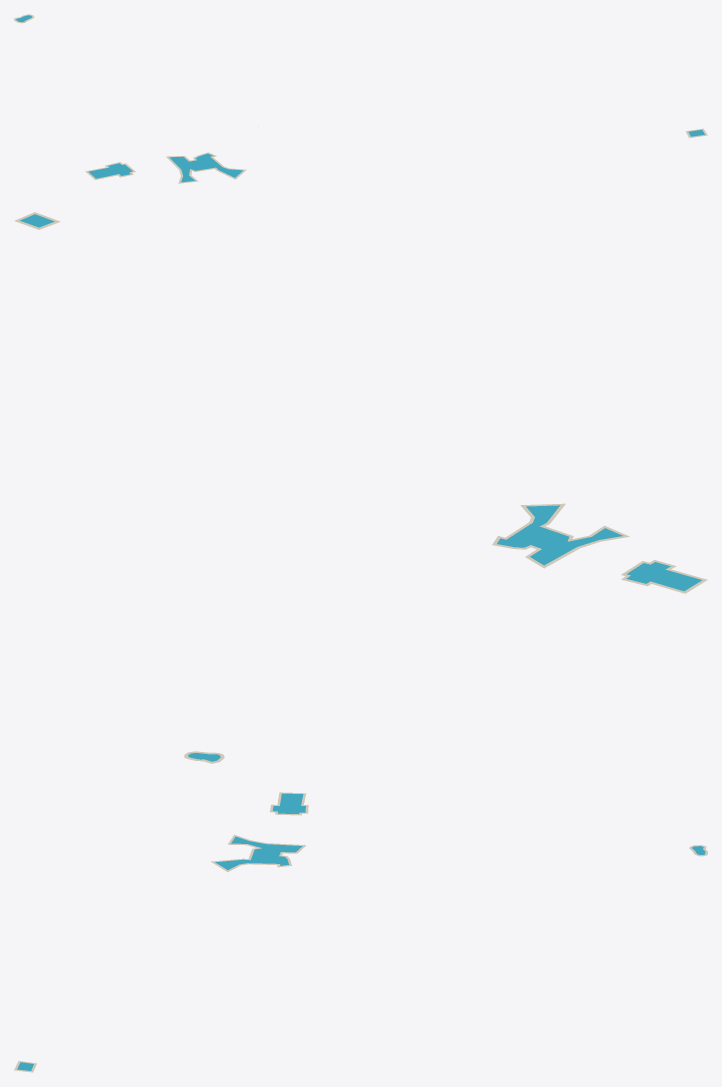
File: pbpool_m20_m16.glb
The picture shows the model from 3 angles, top to bottom: view 1: azimuth 30°, elevation 25°; view 2: azimuth 150°, elevation 25°; view 3: azimuth 270°, elevation 25°; orthographic projection. The views are drawn at different scales.
Parts seen in each view (by area): view 1: pbpool_m20_m16_lod0; view 2: pbpool_m20_m16_lod0; view 3: pbpool_m20_m16_lod0.
Boxes of the visible parts, <box> form: pbpool_m20_m16_lod0: <box>14,14,707,183</box>; pbpool_m20_m16_lod0: <box>14,212,707,763</box>; pbpool_m20_m16_lod0: <box>14,792,707,1072</box>.
Size of what is drawn, in the model's own units: 334 by 6.99 by 341.
